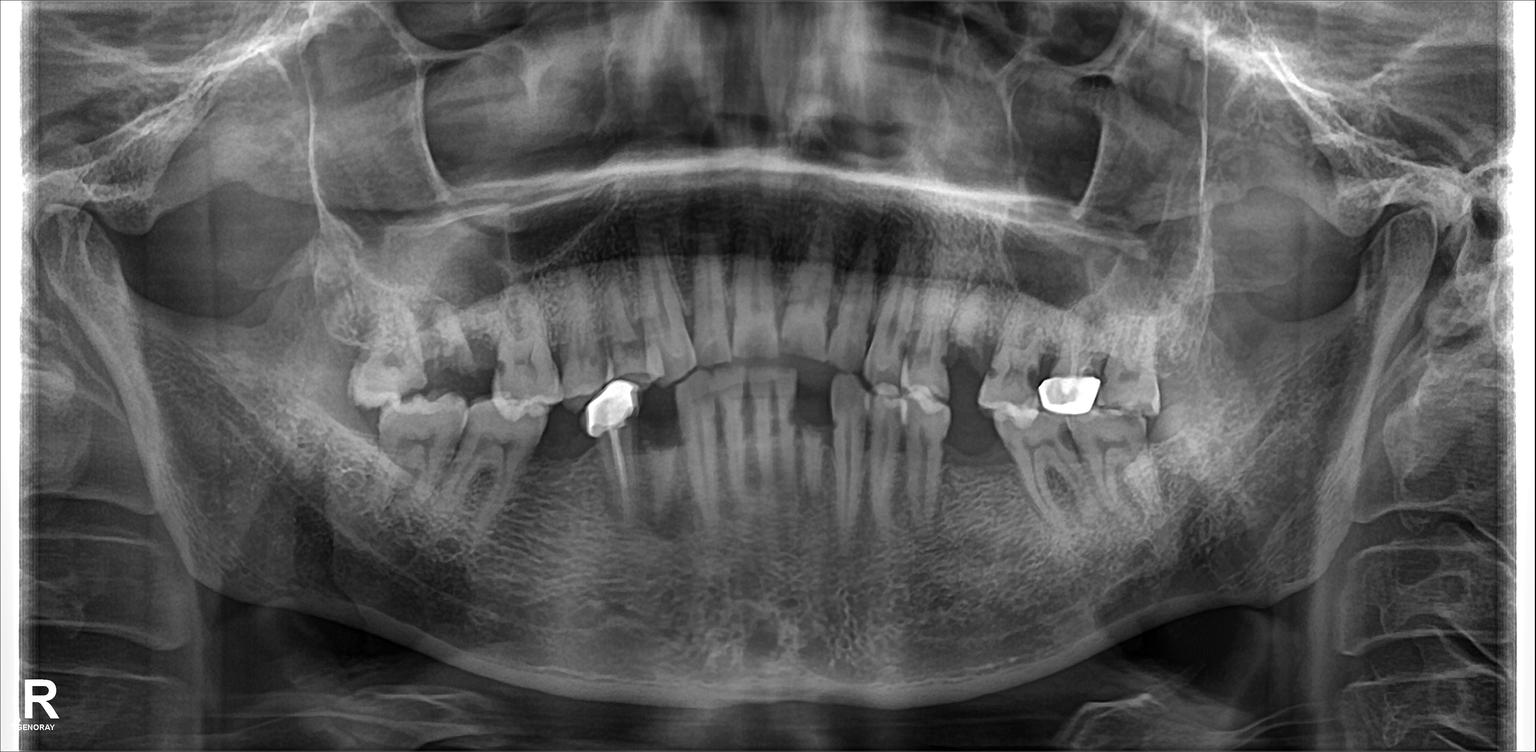Endodontically Treated Tooth: (585, 387, 648, 527), (1050, 324, 1091, 413)
Missing Tooth: (950, 404, 995, 532), (641, 376, 682, 512), (546, 408, 591, 527)
Retained Root: (955, 283, 989, 386), (799, 382, 824, 498)
Tooth Fracture: (430, 300, 484, 395)
